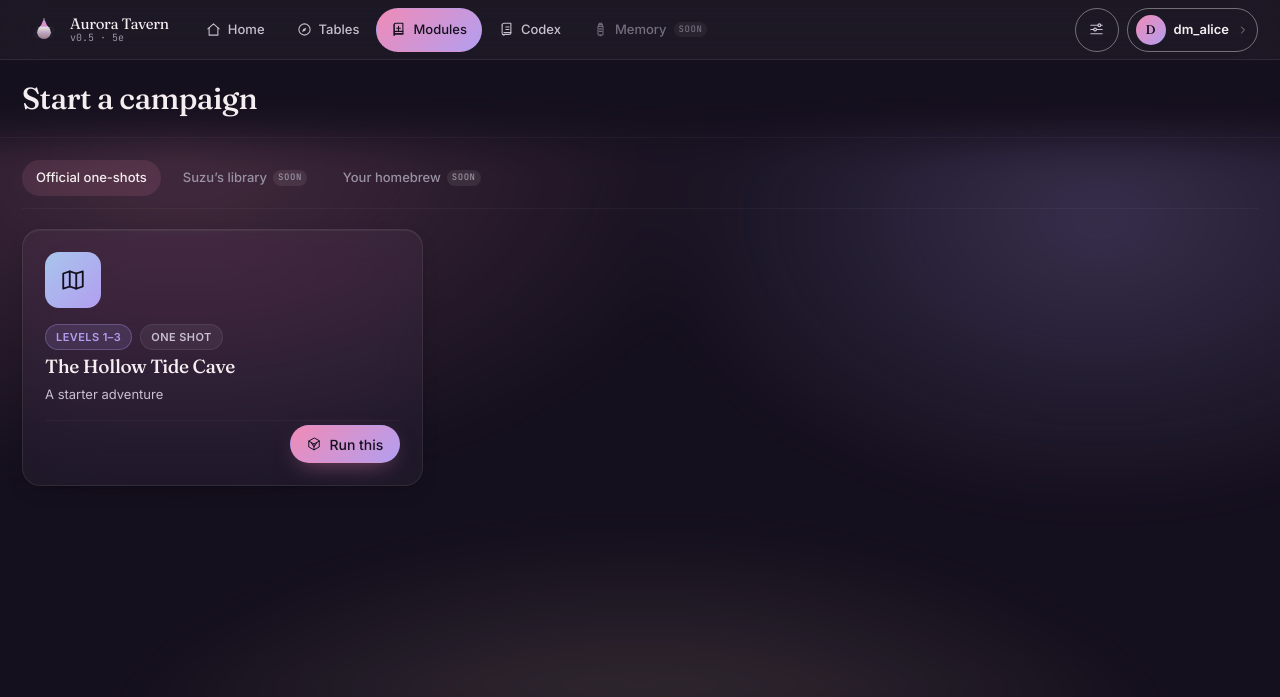
Scenario: S5.5-AC5 — StarterForm shows ai_assist_level radio for human/solo modes › ai assist level fieldset visible when Solo is selected
The image size is (1280, 697).
expect the heading "The Hollow Tide Cave" is shown: met, box [45,354,235,378]
Click the button with aria-label "Run this — The Hollow Tide Cave": (345, 444) [290,425,400,463]
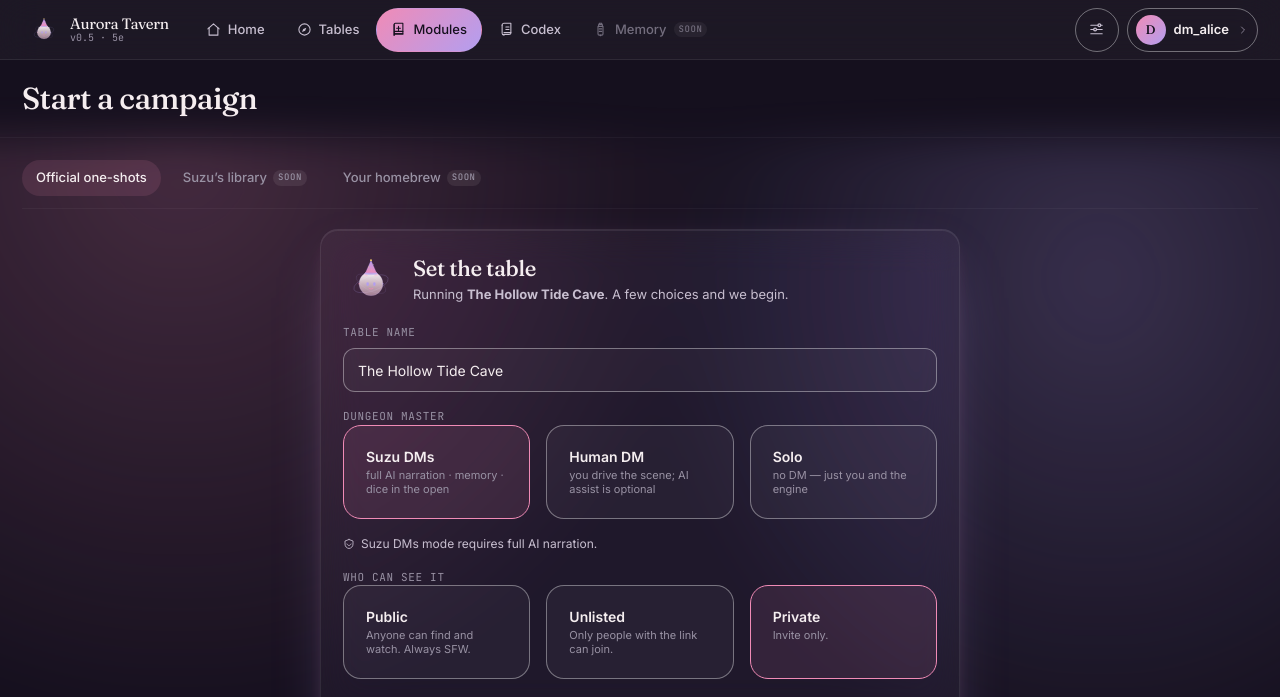
expect the heading "Set the table" is shown: met, box [413,254,536,282]
Note: Switch to 'Solo'.
Click the radio button labelled "Solo no DM — just you and the engine": (843, 472) [750,425,937,519]
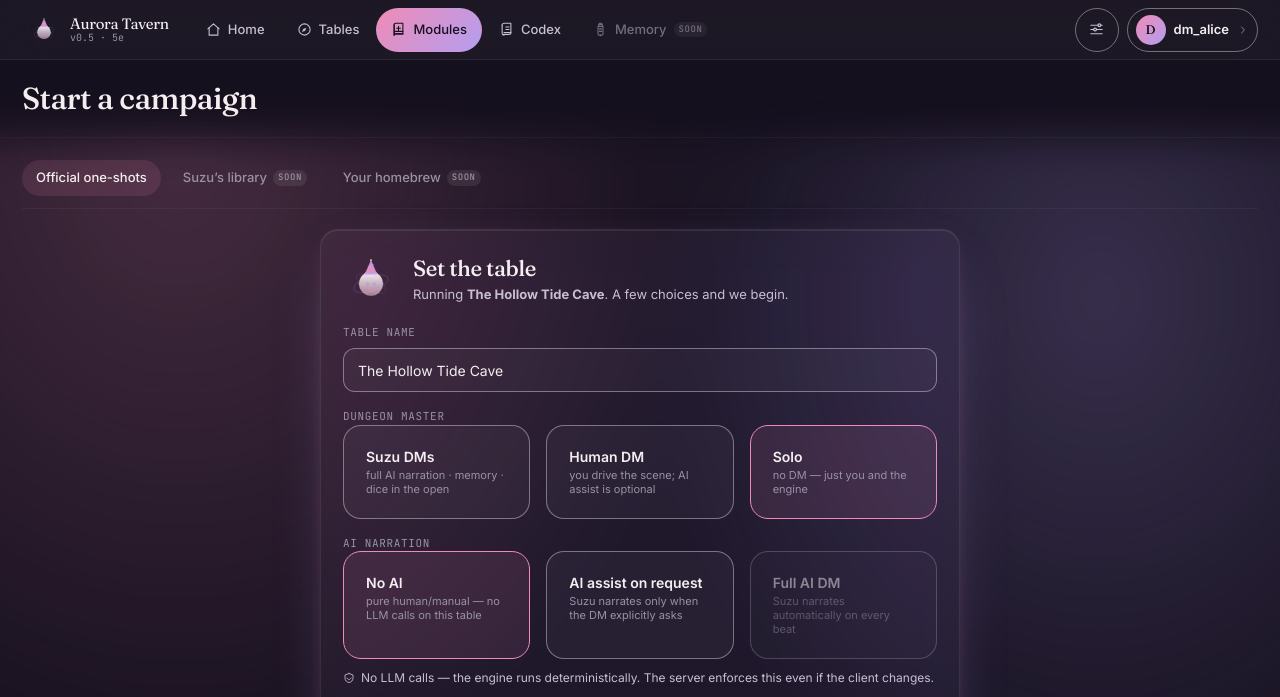
expect the element named "AI narration level" is shown: met, box [343,551,937,659]
